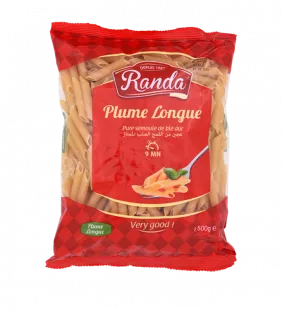RANDA: (36, 12, 244, 276)
